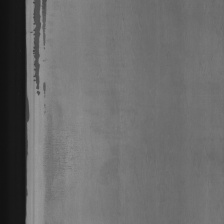water_spot: (31, 0, 53, 111)
